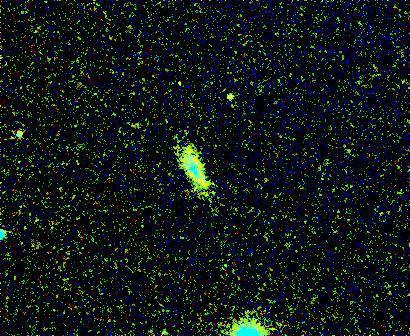star: (216, 82, 246, 112)
